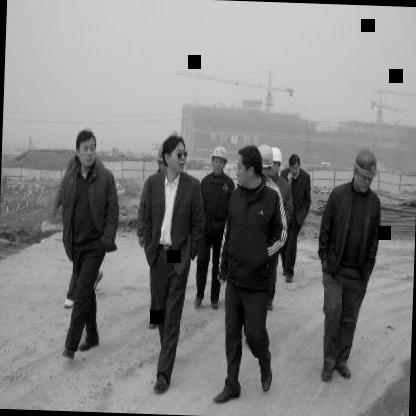head: (228, 144, 264, 191), (158, 133, 190, 178), (73, 124, 100, 172), (287, 150, 302, 178)
helmet: (349, 144, 380, 192), (252, 139, 274, 178), (209, 139, 230, 177), (269, 148, 284, 178)
